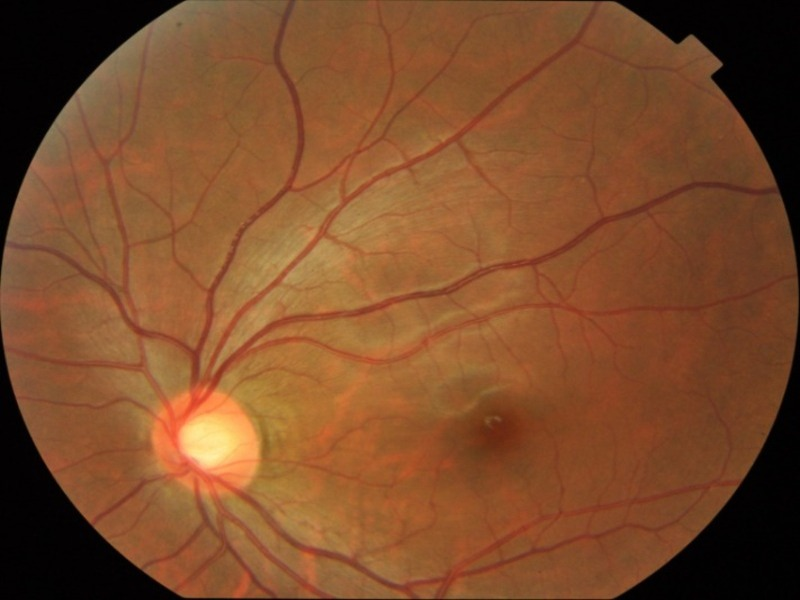Optic Cup: (181, 420, 228, 463)
Optic Disc: (151, 389, 259, 492)
